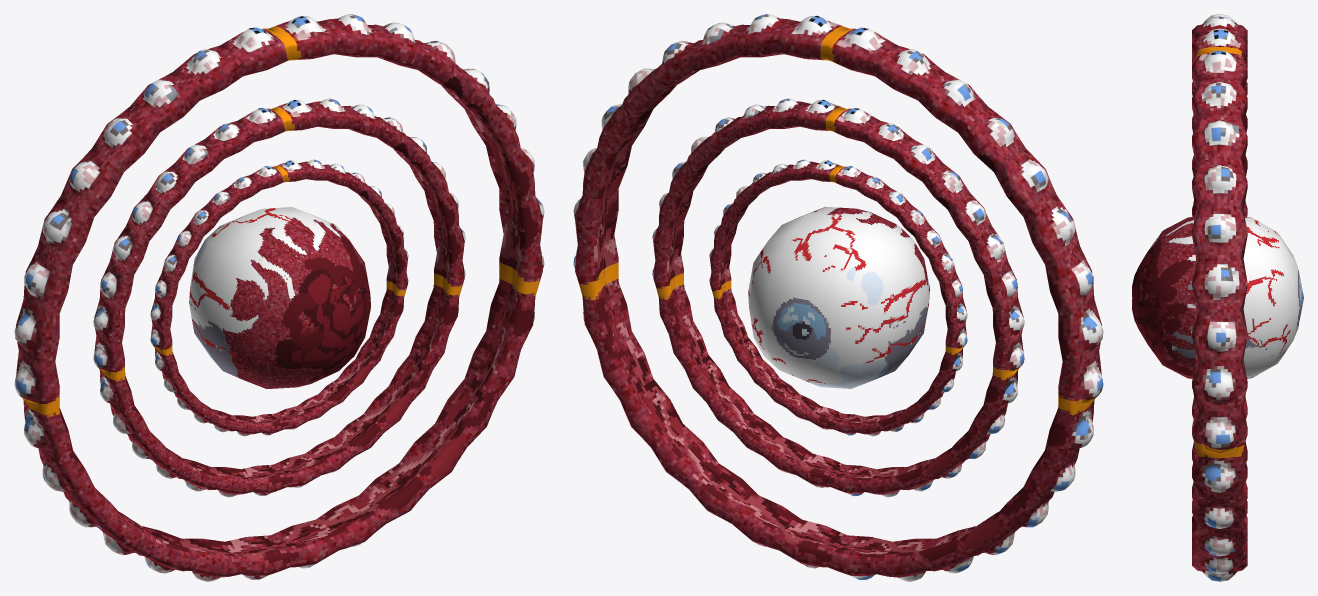
Rendered from AnjoFinal.glb.
3 views of the same model, side by side, from view 1: azimuth 30°, elevation 25°; view 2: azimuth 150°, elevation 25°; view 3: azimuth 270°, elevation 25° (orthographic). The views are drawn at different scales.
Visible parts, largest first — view 1: Cube; view 2: Cube; view 3: Cube.
Part boxes in pixels (<box>): Cube: <box>14,14,544,581</box>; Cube: <box>573,14,1103,581</box>; Cube: <box>1132,14,1303,581</box>.
Size of the model in its own units: 4.71 by 4.71 by 1.43.
Materials: 1 (1 with a texture image).
